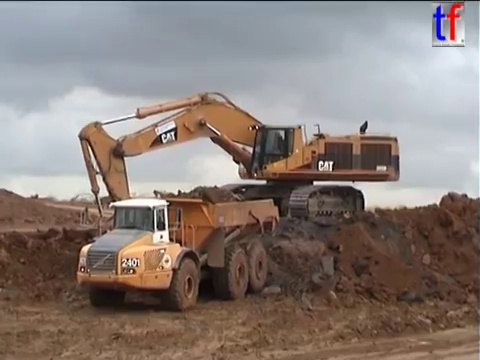excavator: (75, 89, 403, 238)
truck: (74, 193, 282, 313)
